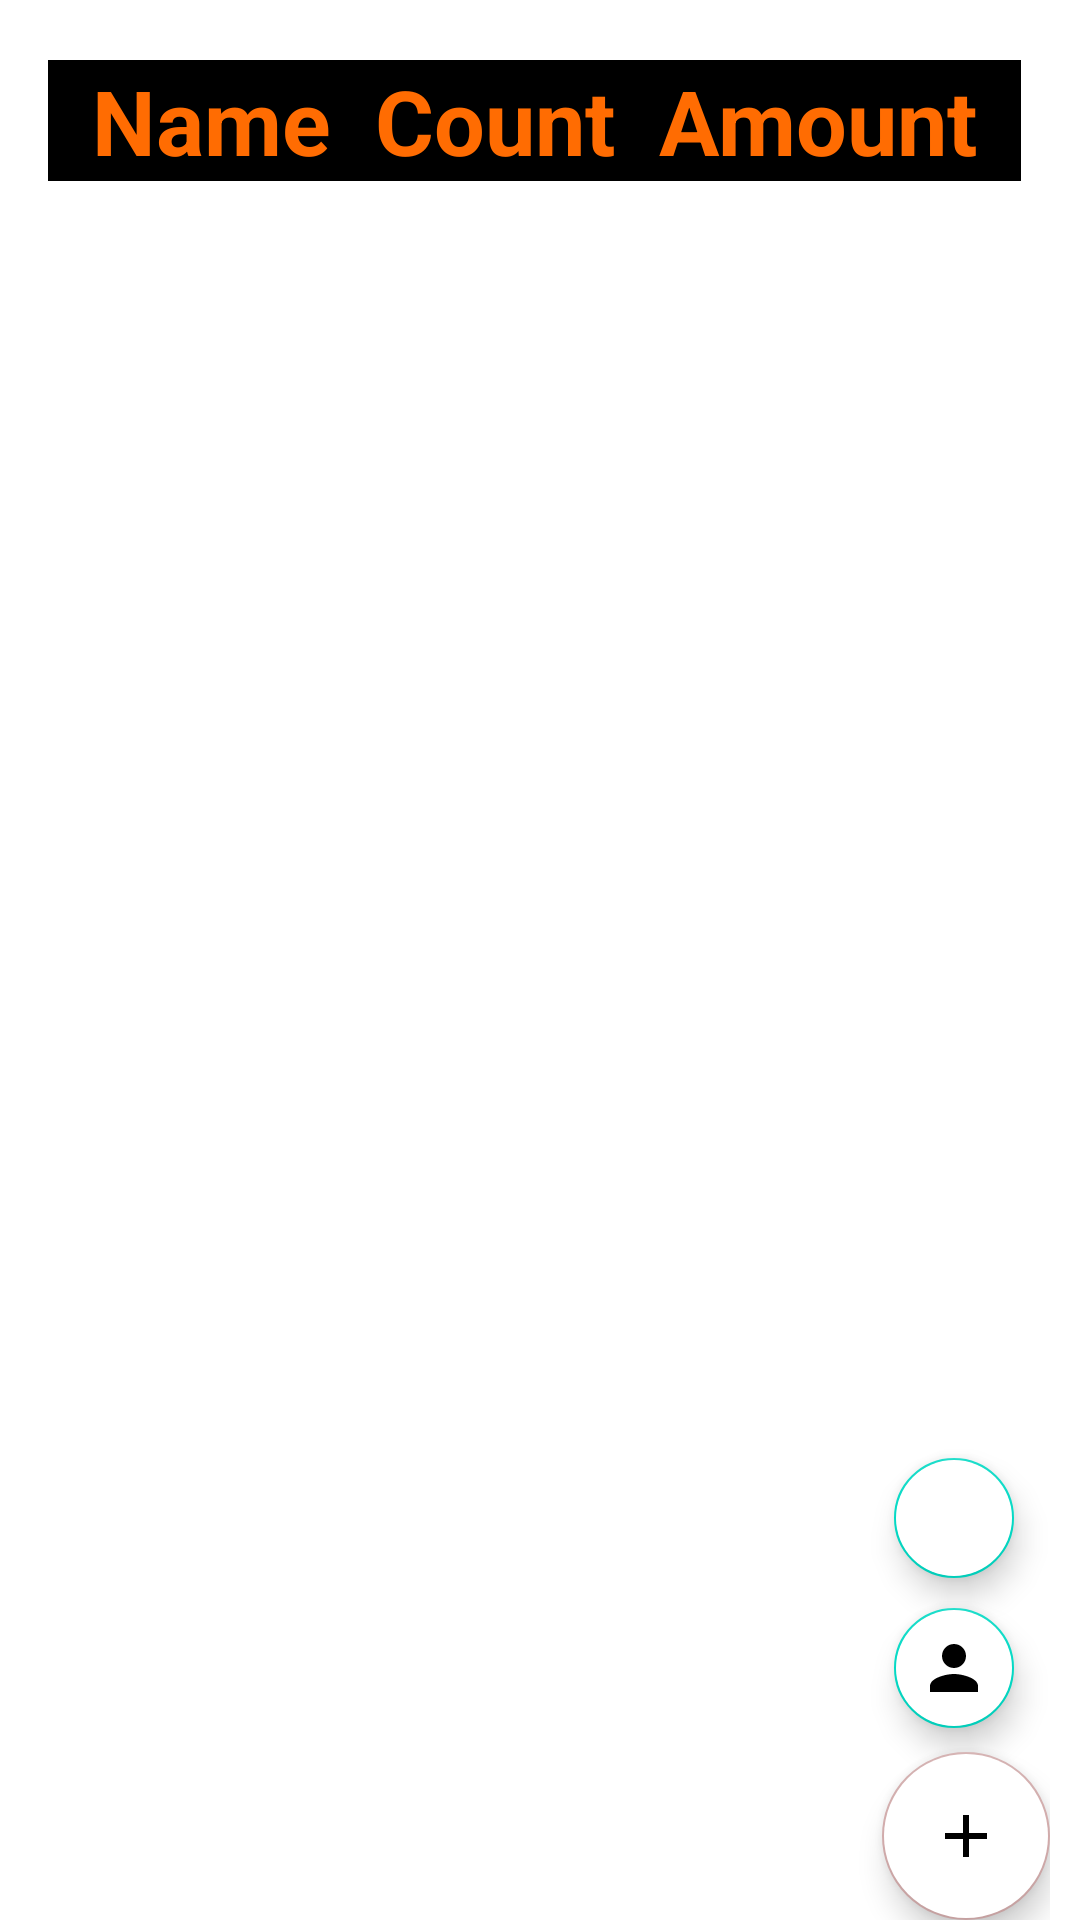

Named icons in this screenshot (1080w x 1920h) and their centers, [x,y]:
add: [966,1836]
person: [955,1674]
